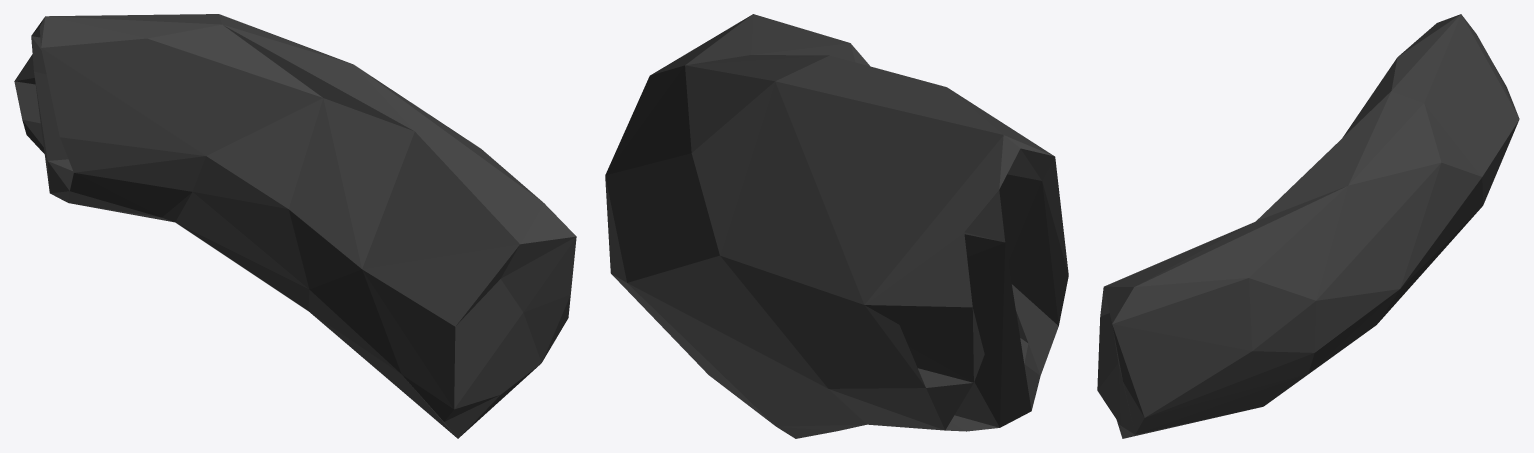
Rendered from chin_skull_L_014_1.glb.
3 views of the same model, side by side, from view 1: azimuth 30°, elevation 25°; view 2: azimuth 150°, elevation 25°; view 3: azimuth 270°, elevation 25° (orthographic). The views are drawn at different scales.
Parts seen in each view (by area): view 1: chin_skull_L_014_1; view 2: chin_skull_L_014_1; view 3: chin_skull_L_014_1.
Part boxes in pixels (x1=…): chin_skull_L_014_1: x1=14, y1=14, x2=576, y2=438; chin_skull_L_014_1: x1=605, y1=14, x2=1068, y2=438; chin_skull_L_014_1: x1=1097, y1=14, x2=1519, y2=438.
Bounding box in the file's own units: 0.2609 × 0.2329 × 0.2779.
1 material, 1 textured.
